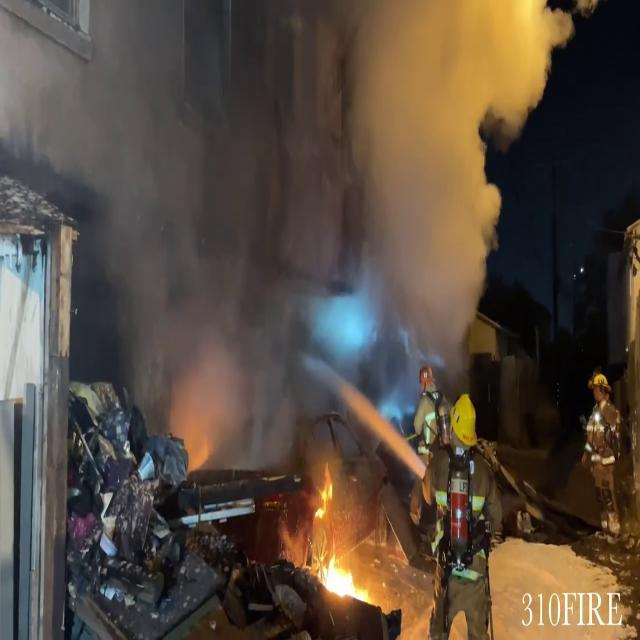Fire: (306, 486, 373, 606), (308, 540, 373, 606)
Smoke: (80, 0, 305, 469), (326, 1, 536, 356)
